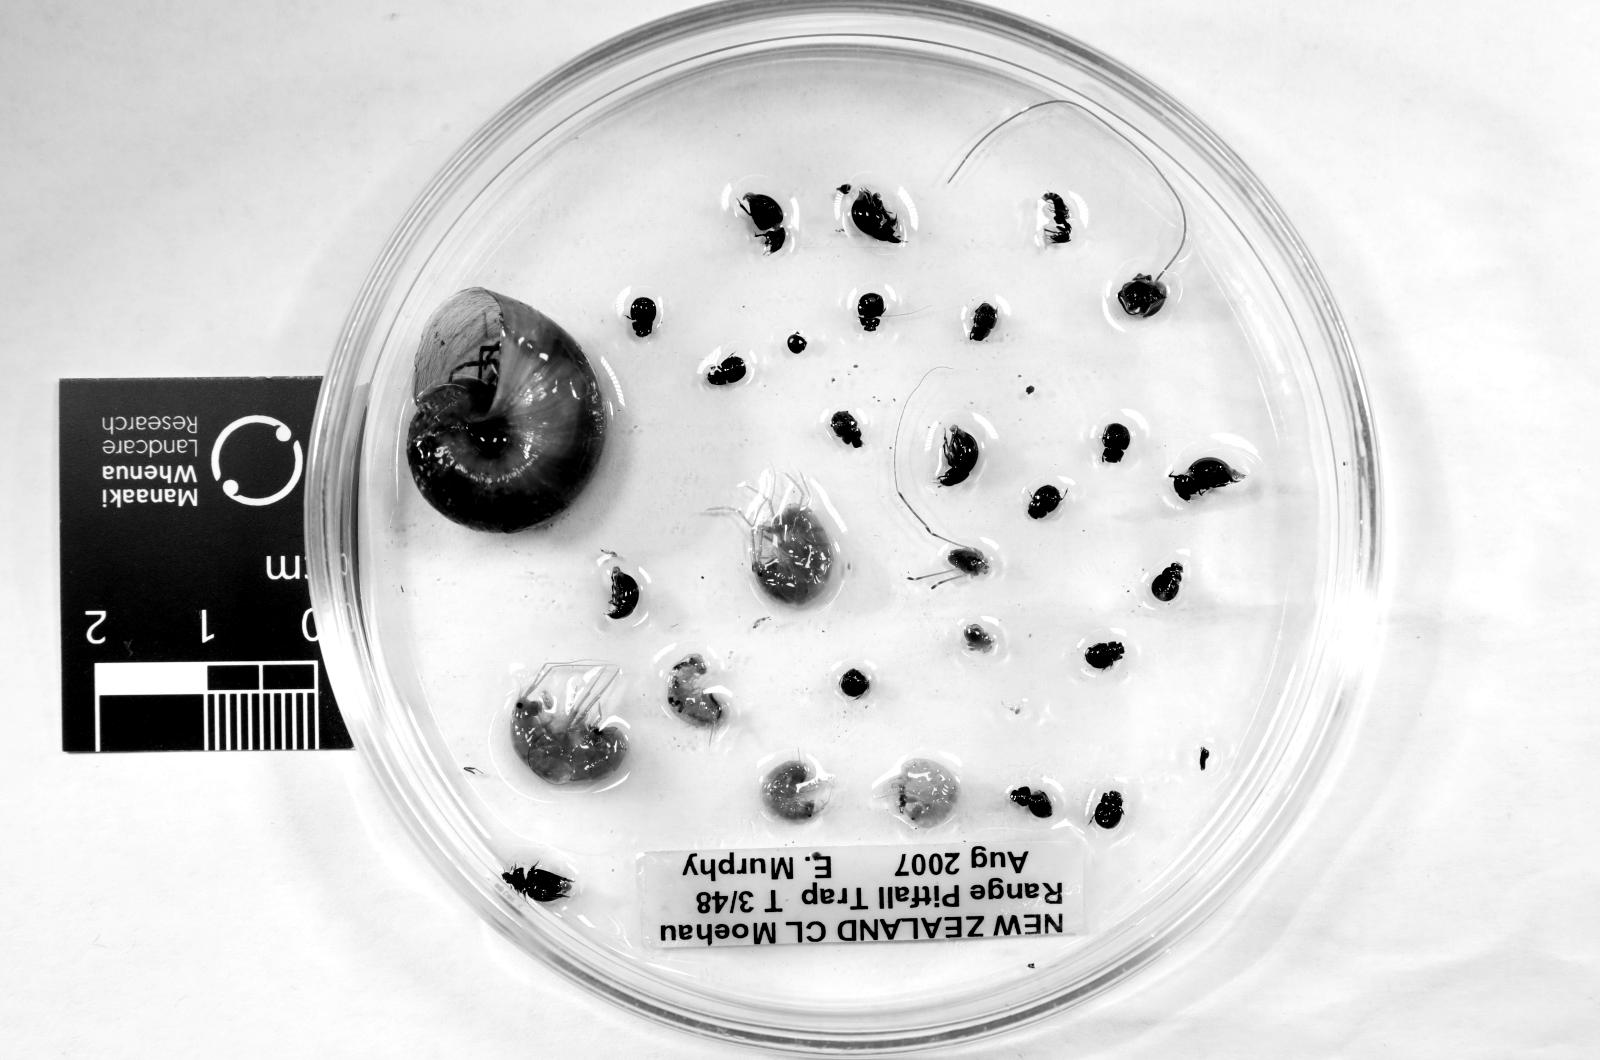amphipoda: (509, 661, 628, 786), (753, 506, 831, 606), (891, 758, 959, 826), (669, 655, 725, 730), (762, 761, 816, 823), (962, 624, 997, 652)
coleoptera: (1172, 457, 1244, 500), (850, 189, 903, 242), (503, 866, 572, 904), (741, 193, 784, 252), (938, 425, 978, 484), (609, 565, 641, 618), (1009, 786, 1053, 820), (1100, 422, 1131, 463), (1150, 562, 1181, 602), (1028, 484, 1062, 519), (969, 301, 997, 342), (706, 357, 747, 385), (1084, 643, 1125, 671), (831, 410, 862, 447), (1094, 792, 1125, 829), (856, 292, 884, 332), (628, 298, 656, 338)
formicidae: (1044, 193, 1072, 245)
gastropoda: (406, 289, 606, 531)
opiliones: (947, 547, 991, 578)
